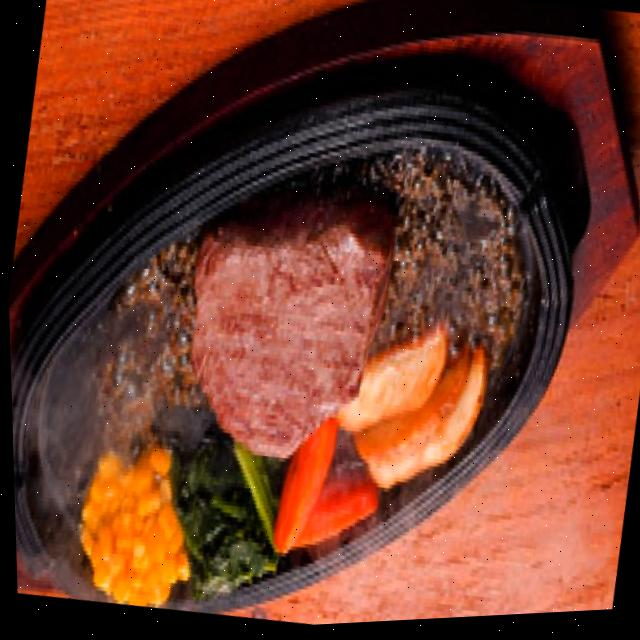牛肉菜式: (12, 0, 275, 253)
